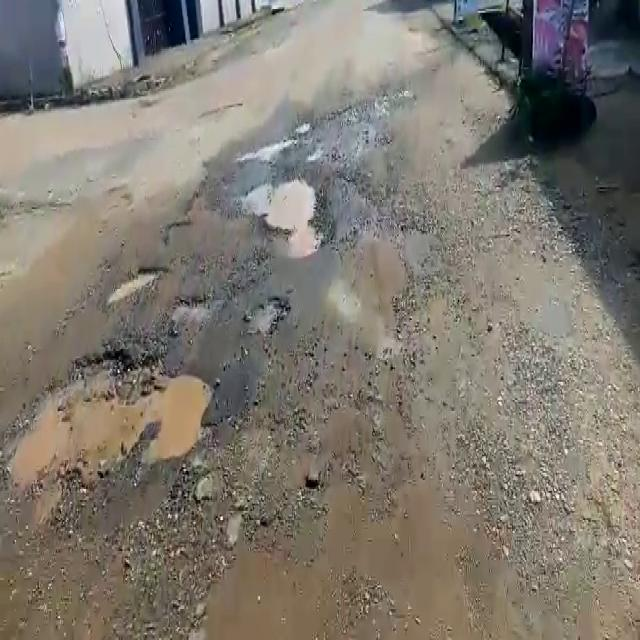Pothole: (0, 353, 211, 489), (236, 170, 327, 254), (111, 263, 170, 306), (243, 292, 284, 333)
